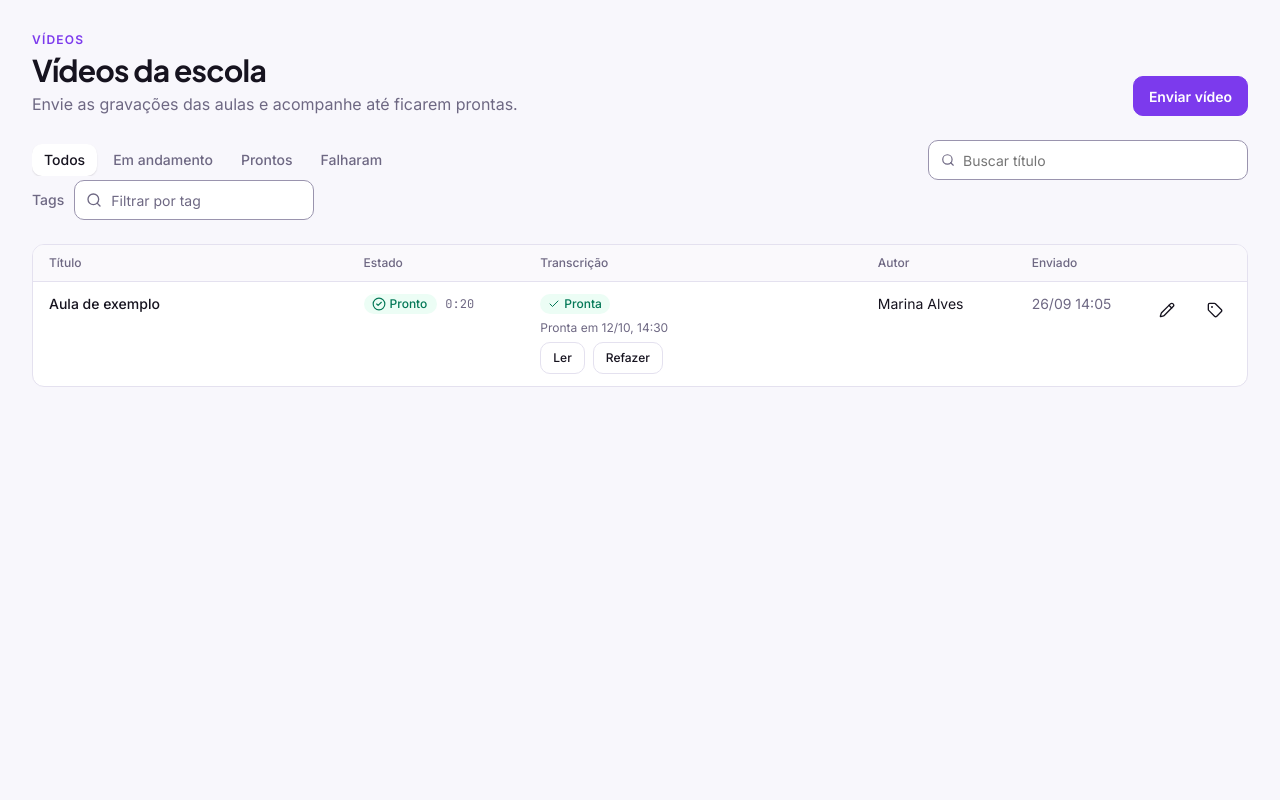
it: video-transcription-reader › shows a neutral not-ready state with only close actions on TRANSCRIPTION_NOT_READY
Click the button with aria-label "Ler transcrição de Aula de exemplo": (563, 358) [540, 342, 585, 374]
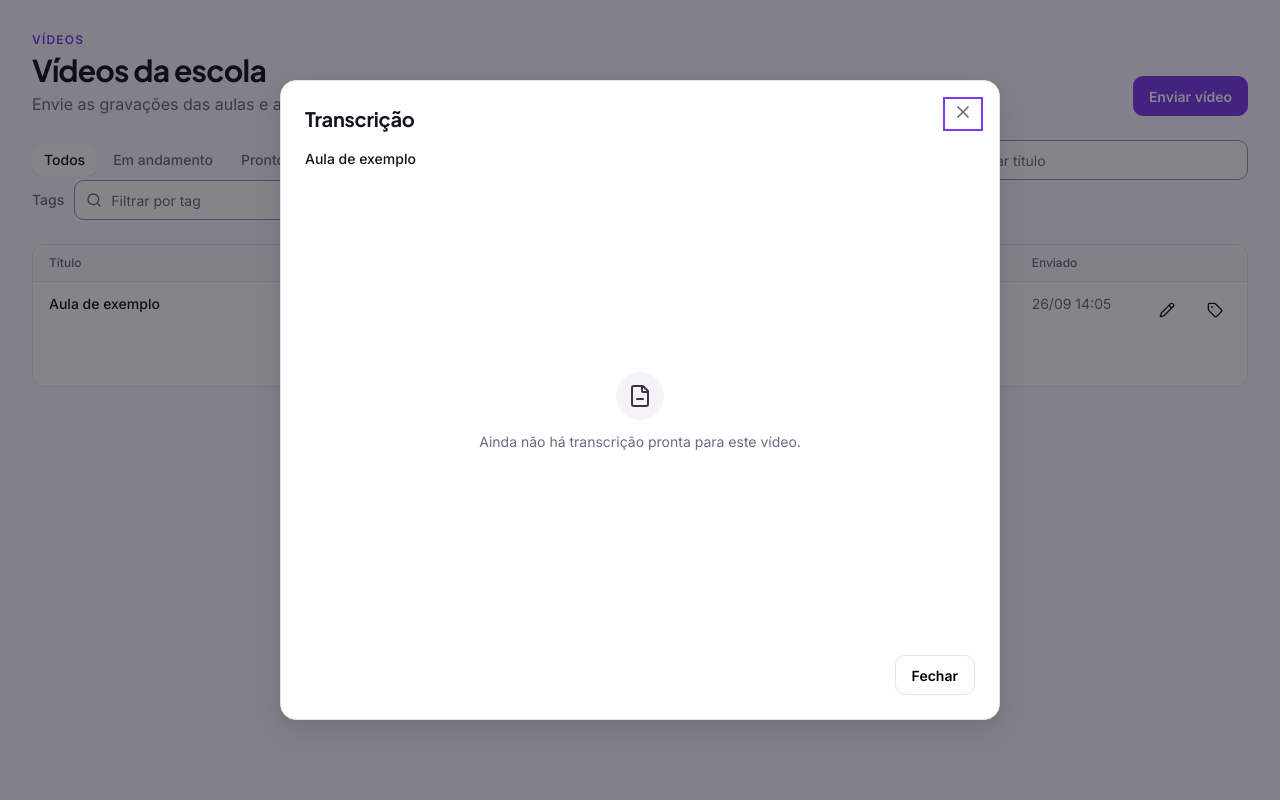
Now the message reads "Ainda não há transcrição pronta para este vídeo.", box [479, 433, 801, 450]
